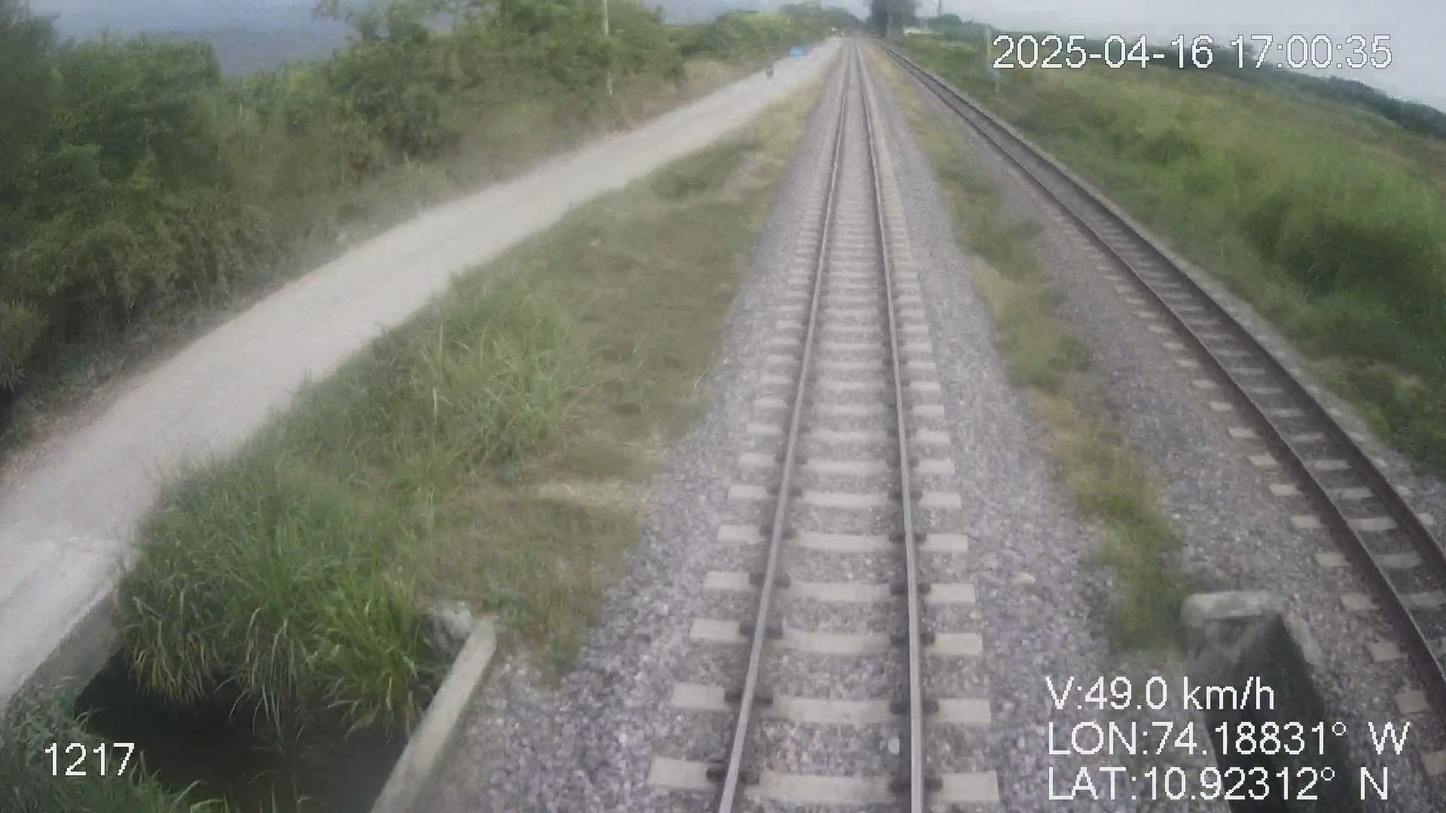Pasto: (140, 85, 828, 664), (0, 0, 837, 448), (886, 17, 1445, 525)
